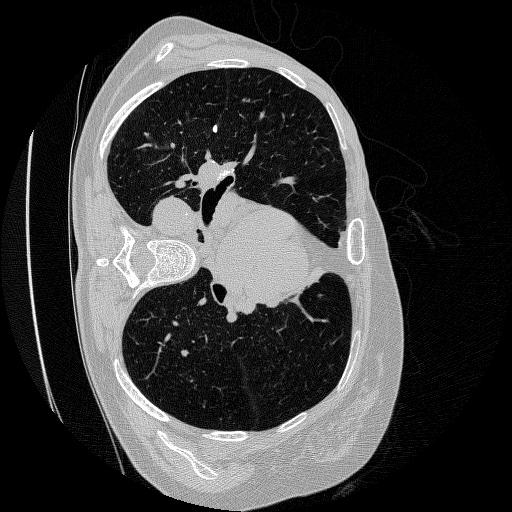nodule: (211, 126, 222, 137)
